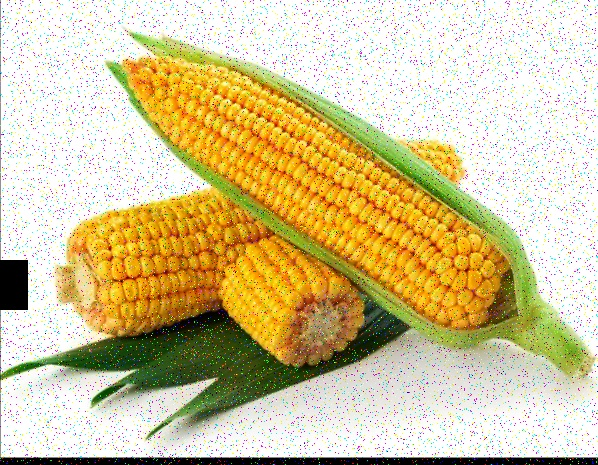corn: (132, 49, 561, 354), (73, 143, 465, 316)
